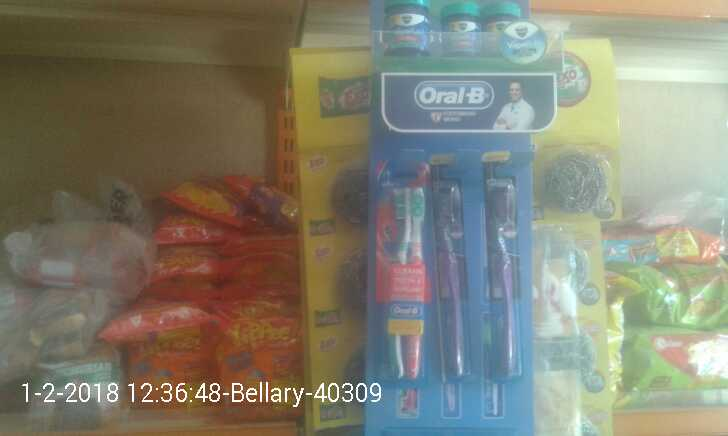pharmacy: (375, 171, 433, 374), (382, 1, 547, 67)
